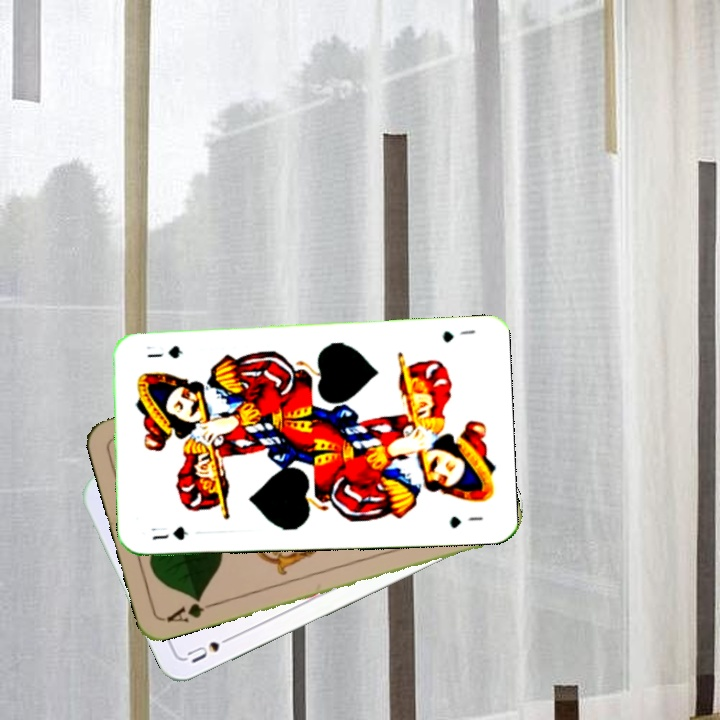GA: (162, 593, 219, 625)
GU: (148, 522, 191, 543), (439, 326, 478, 345)
SU: (183, 630, 238, 666)
